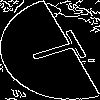T: (25, 25, 100, 71)
